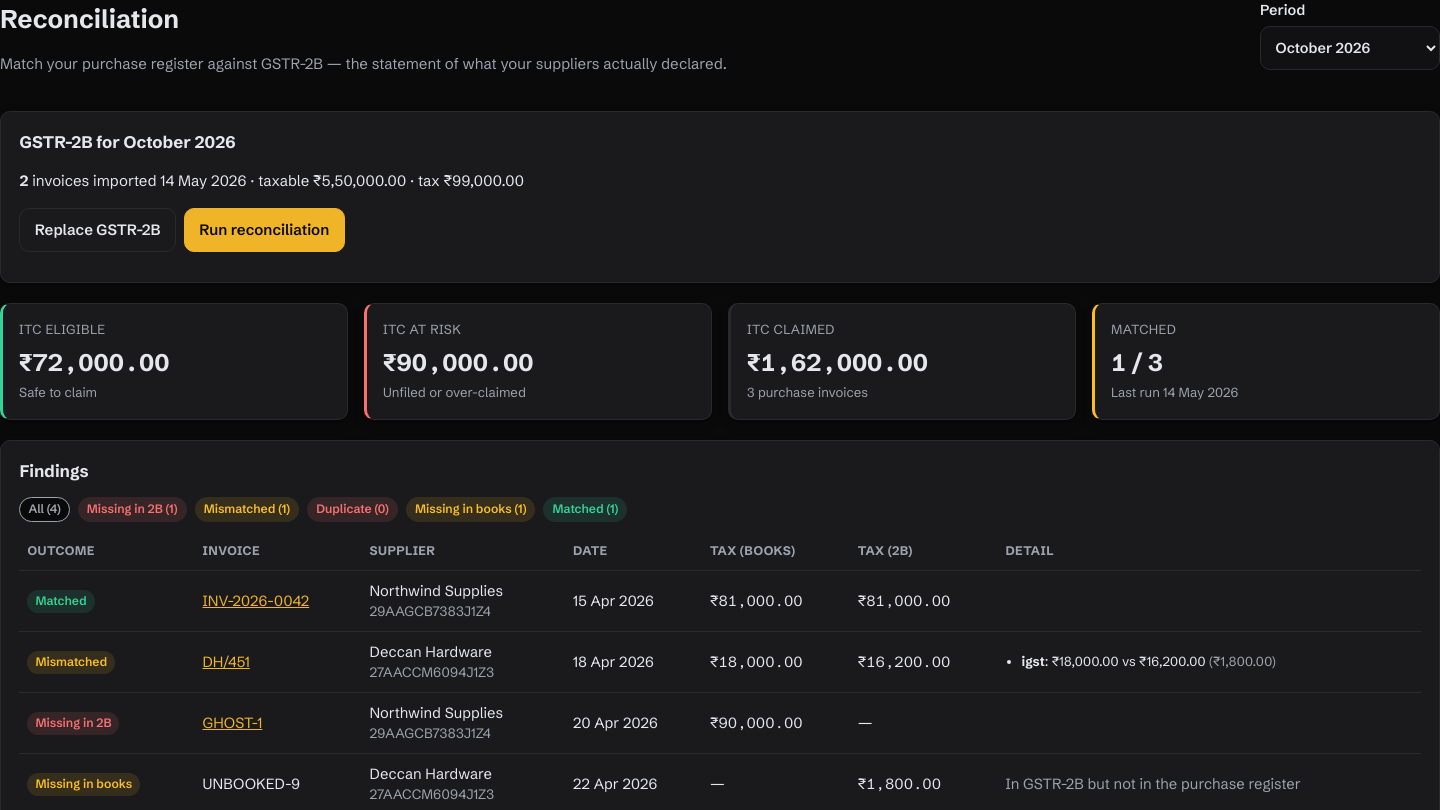
Scenario: ReconcilePage › filters the findings by outcome
This screenshot has width=1440, height=810.
Expected: the link "INV-2026-0042" is shown, left=202, top=592, right=309, bottom=610
Click the button "Missing in 2B (1)". click: (132, 509)
box: left=78, top=496, right=187, bottom=522
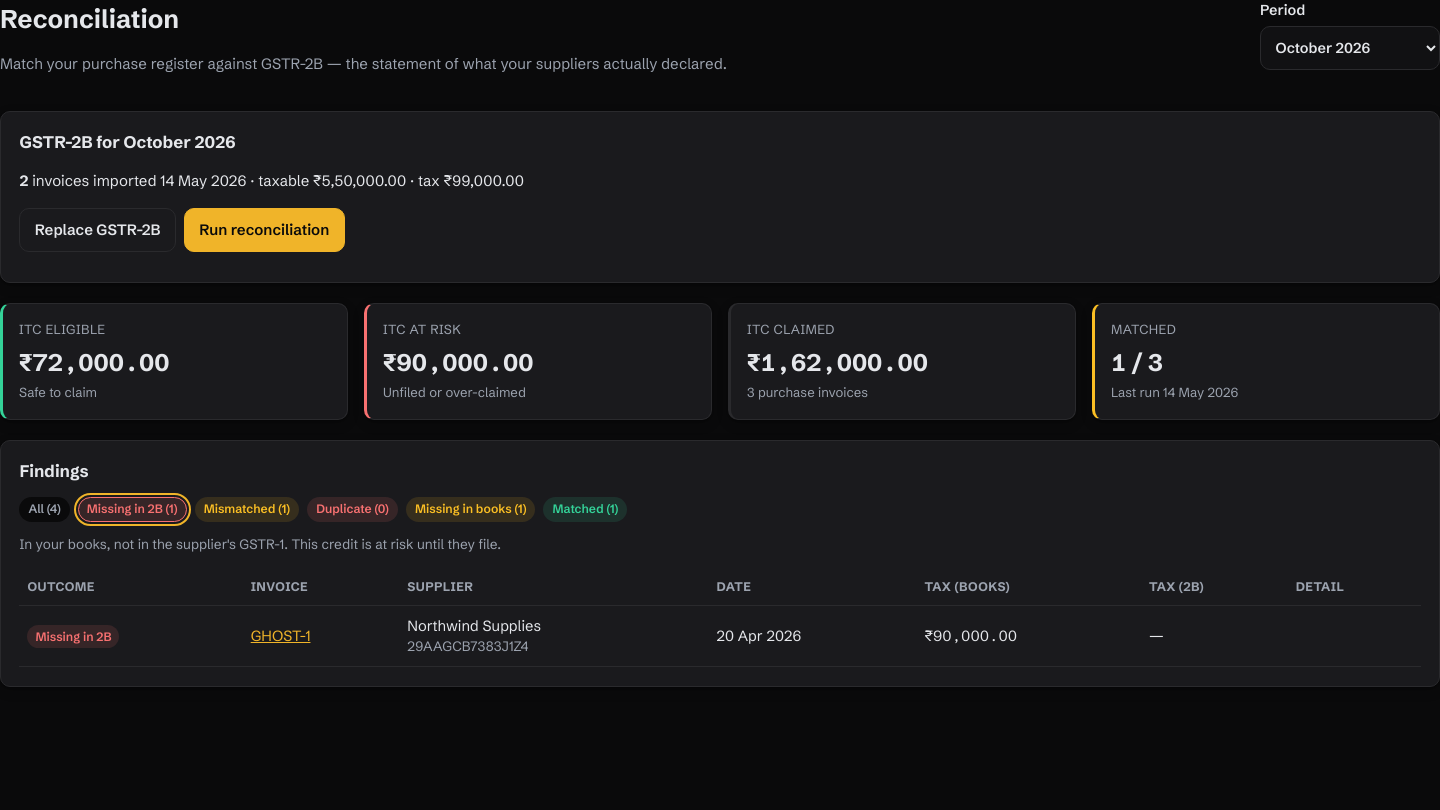
Expected: the link "GHOST-1" is shown, left=251, top=627, right=310, bottom=645
Now the link "INV-2026-0042" is gone
Now the text "This credit is at risk until they file" is shown, box left=19, top=536, right=501, bottom=553
